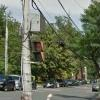Tree: (53, 7, 100, 86)
